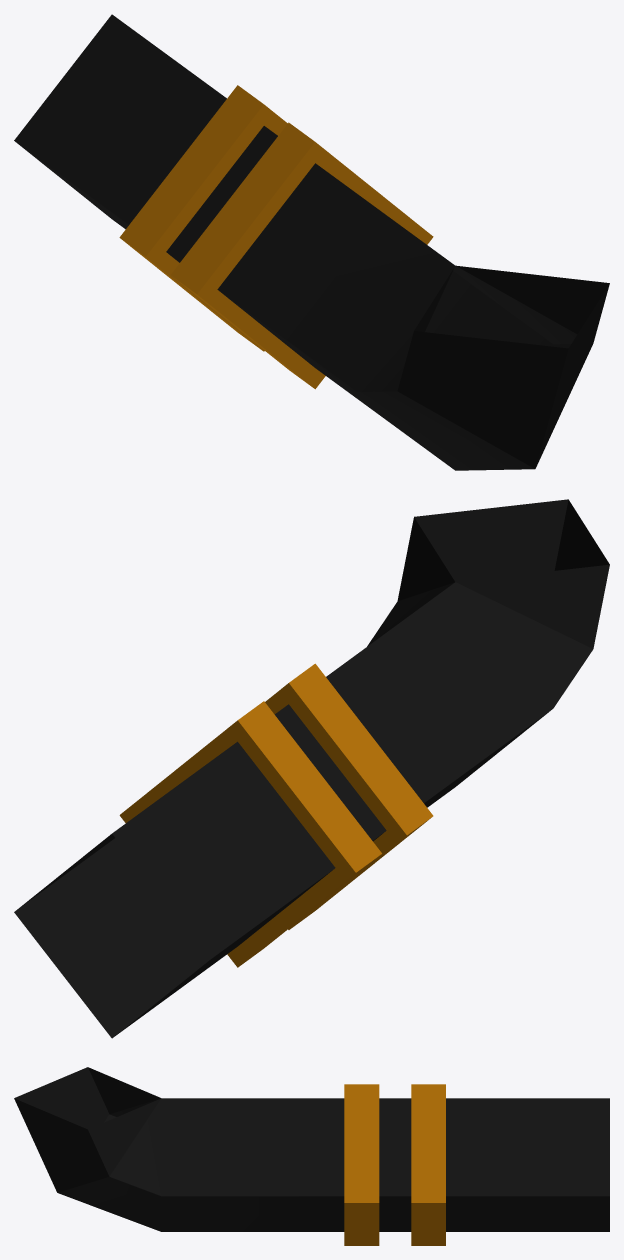
The model's file is Pipe Corner.fbx.
3 views of the same model, one above another, from view 1: azimuth 30°, elevation 25°; view 2: azimuth 150°, elevation 25°; view 3: azimuth 270°, elevation 25° (orthographic). The views are drawn at different scales.
Visible parts, largest first — view 1: Pipe Corner; view 2: Pipe Corner; view 3: Pipe Corner.
Boxes of the visible parts, <box> form: Pipe Corner: <box>14,14,609,470</box>; Pipe Corner: <box>14,499,609,1038</box>; Pipe Corner: <box>14,1067,609,1245</box>.
Bounding box in the file's own units: 34.14 × 34.14 × 114.
